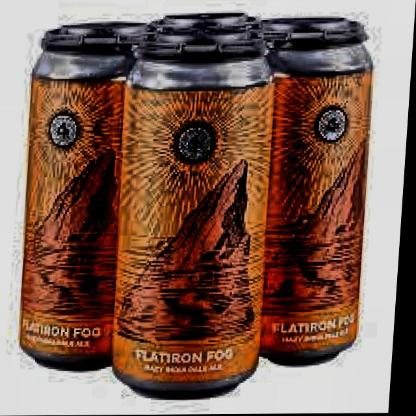Can: (104, 26, 288, 406), (13, 13, 159, 379), (241, 11, 381, 383), (143, 9, 269, 40)
